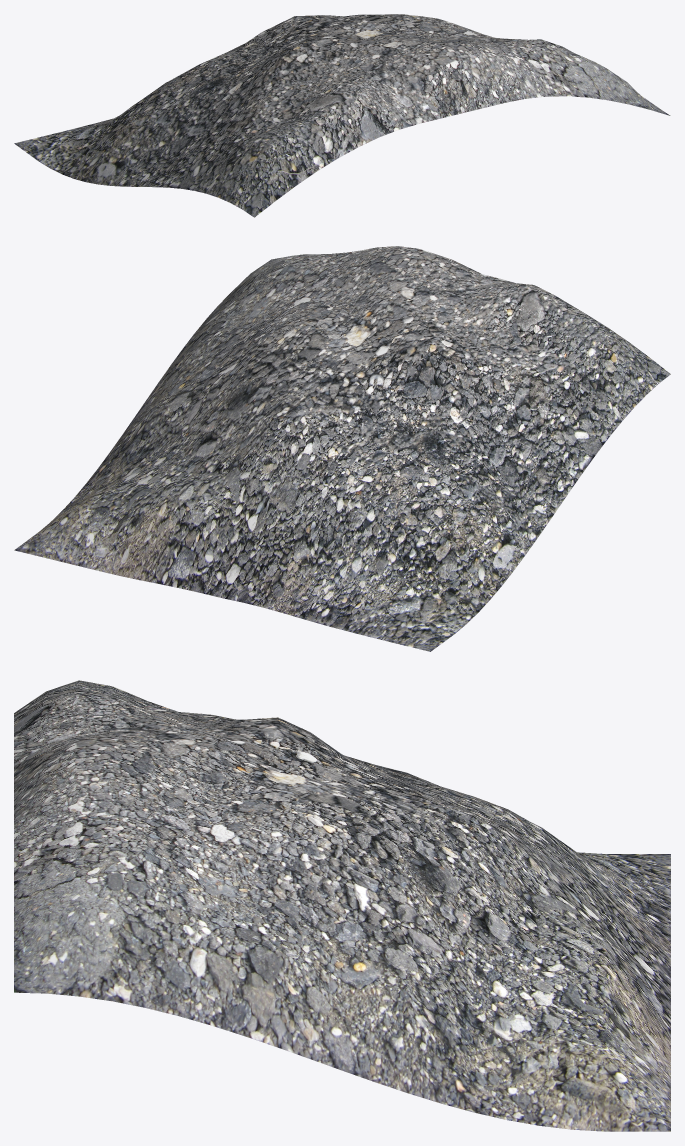
Rendered from debri 1.fbx.
The picture shows the model from 3 angles, top to bottom: view 1: azimuth 30°, elevation 25°; view 2: azimuth 150°, elevation 25°; view 3: azimuth 270°, elevation 25°; orthographic projection. The views are drawn at different scales.
Parts seen in each view (by area): view 1: pPlane1; view 2: pPlane1; view 3: pPlane1.
Part boxes in pixels (x1,y1,x2,y2): pPlane1: [14, 14, 670, 217]; pPlane1: [14, 246, 670, 651]; pPlane1: [14, 680, 670, 1131].
Bounding box in the file's own units: 10 × 4.35 × 10.
